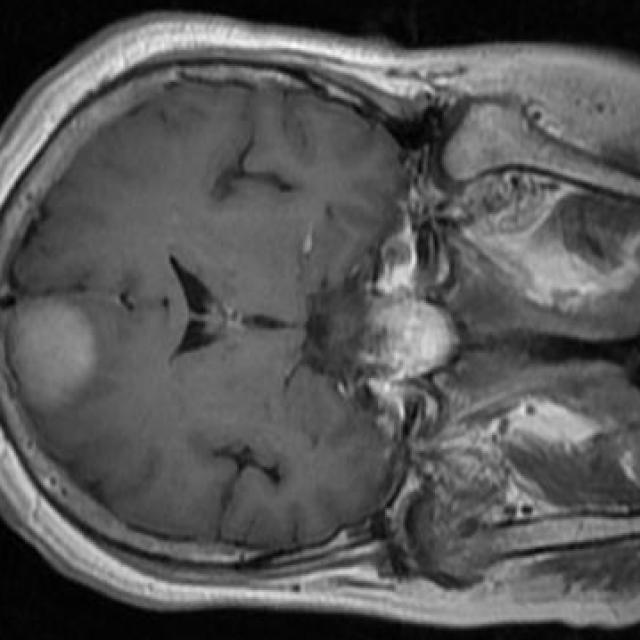meningioma: (9, 301, 94, 408)
